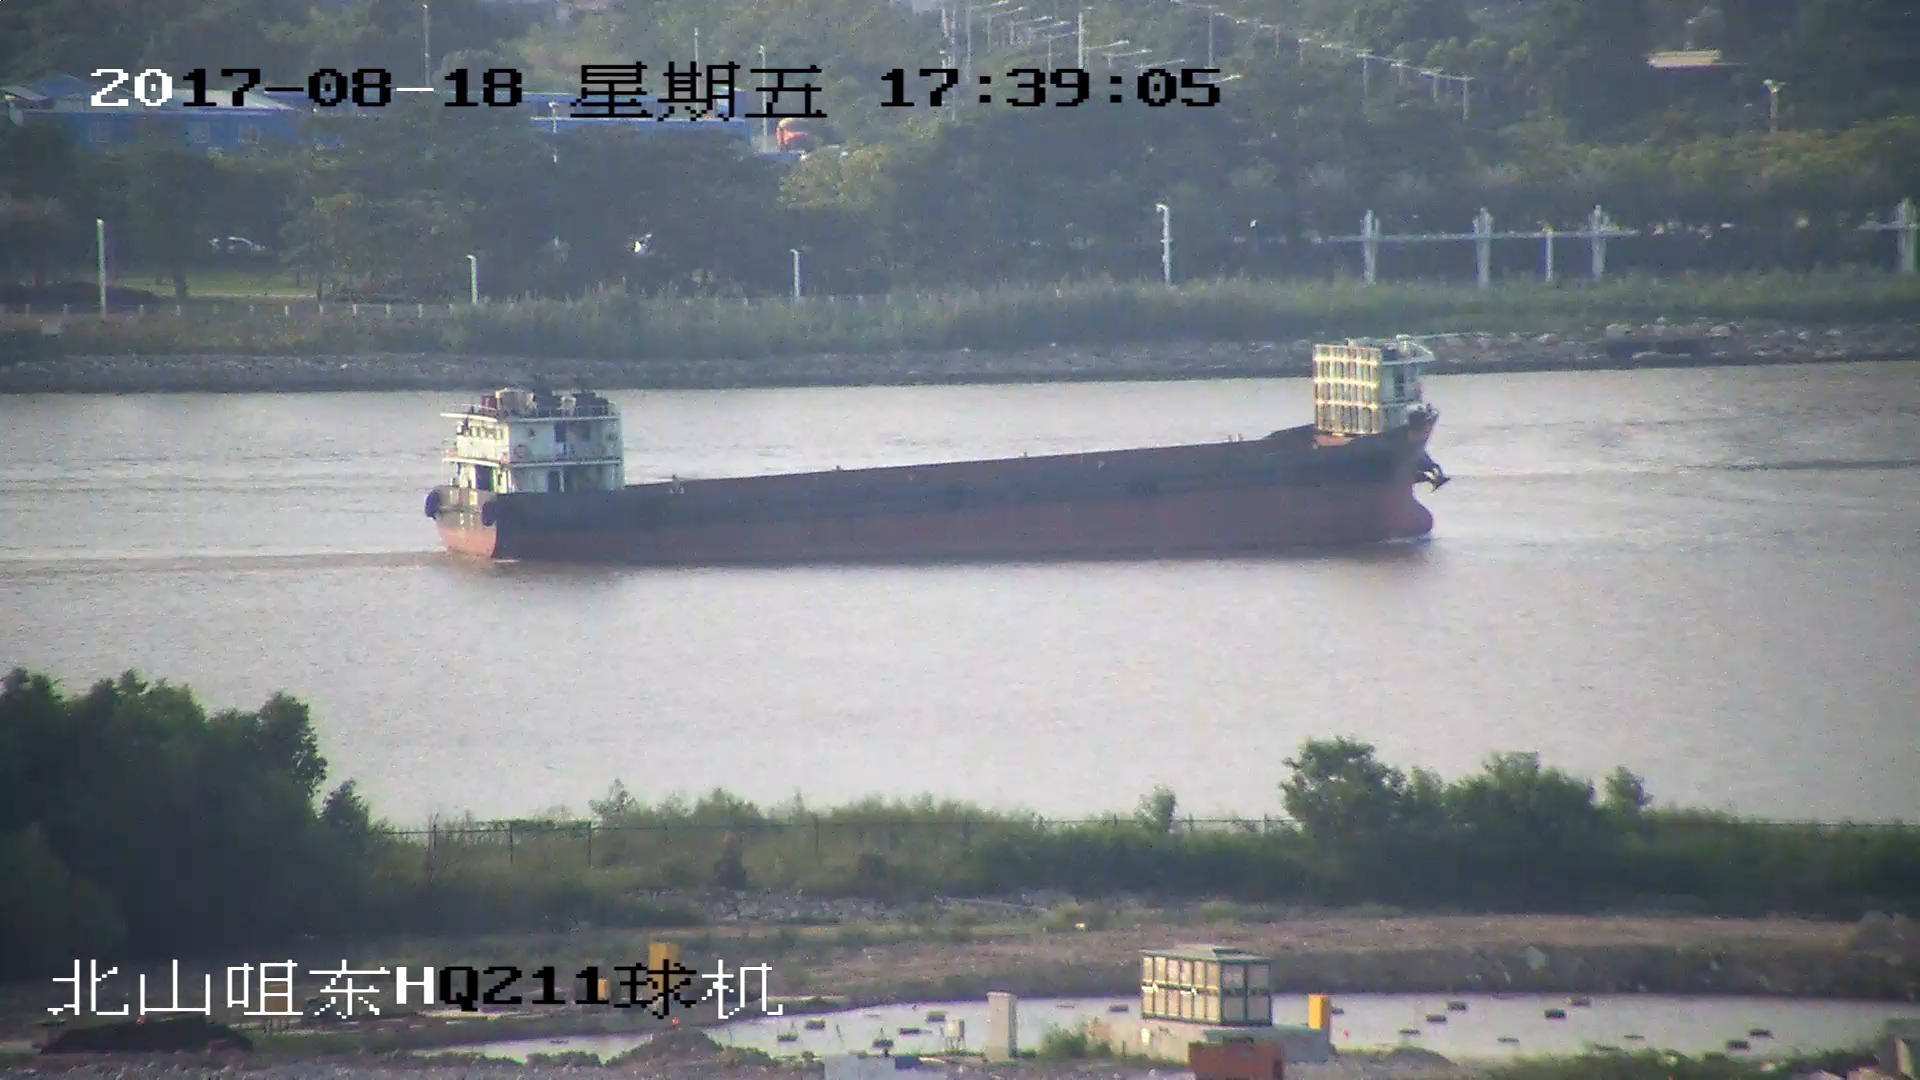general cargo ship: (435, 334, 1445, 564)
